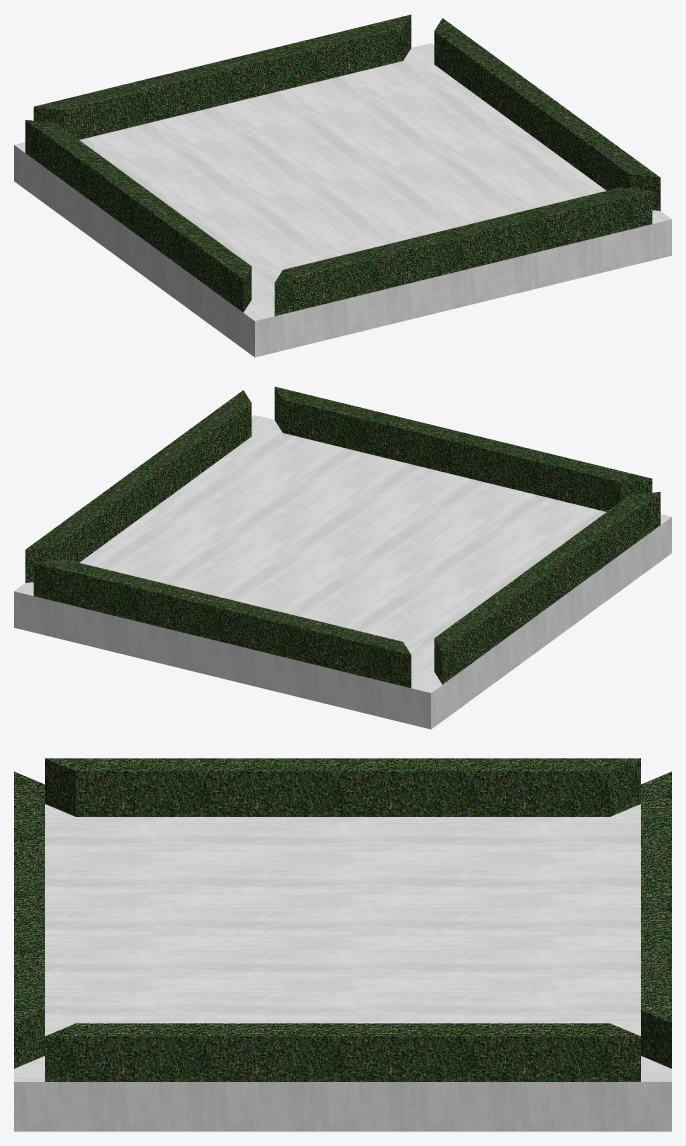
The model's file is table0.glb.
3 renders of one model, top to bottom at view 1: azimuth 30°, elevation 25°; view 2: azimuth 150°, elevation 25°; view 3: azimuth 270°, elevation 25°, orthographic. The views are drawn at different scales.
Visible parts, largest first — view 1: bereza, izgorod; view 2: bereza, izgorod; view 3: bereza, izgorod.
Boxes of the visible parts, left/top/right/bottom form: bereza: left=14, top=43, right=671, bottom=357; izgorod: left=25, top=14, right=660, bottom=315; bereza: left=14, top=415, right=671, bottom=729; izgorod: left=25, top=386, right=660, bottom=687; bereza: left=14, top=804, right=671, bottom=1131; izgorod: left=14, top=758, right=671, bottom=1081.
Bounding box in the file's own units: 3 × 0.4796 × 3.
2 materials, 2 textured.
